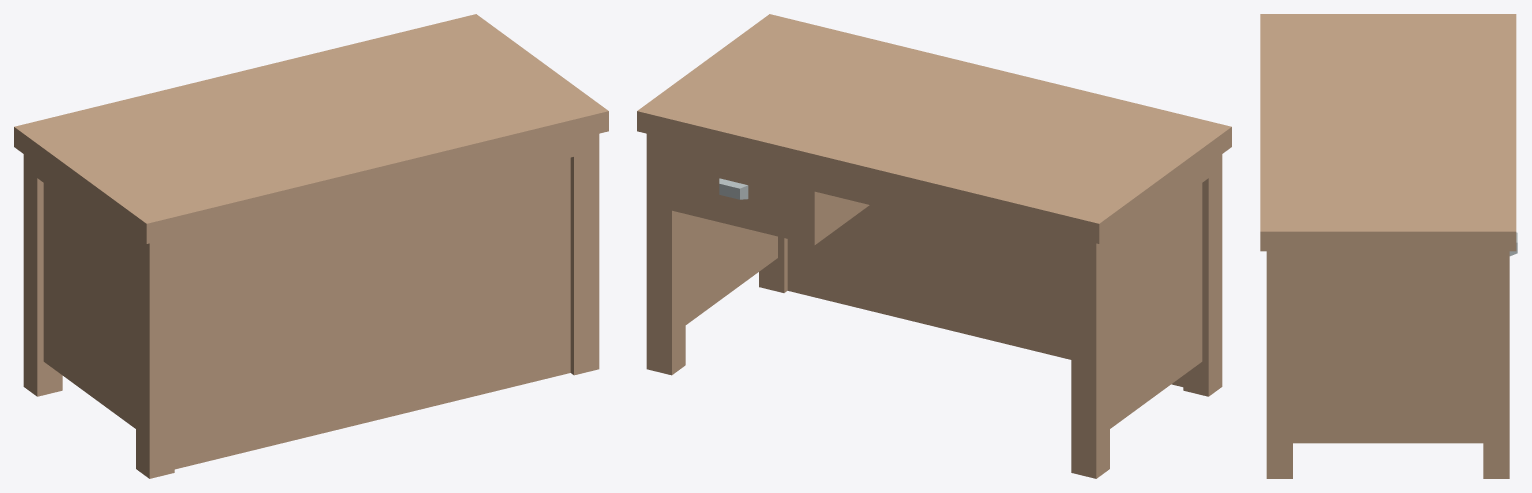
The model's file is desk.glb.
3 views of the same model, side by side, from view 1: azimuth 30°, elevation 25°; view 2: azimuth 150°, elevation 25°; view 3: azimuth 270°, elevation 25° (orthographic). The views are drawn at different scales.
Visible parts, largest first — view 1: desk; view 2: desk; view 3: desk.
Part boxes in pixels (left/top/right/bottom): desk: left=14, top=14, right=608, bottom=478; desk: left=637, top=14, right=1231, bottom=478; desk: left=1260, top=14, right=1517, bottom=478.
Size of the model in its own units: 1.4 by 0.75 by 0.7.
